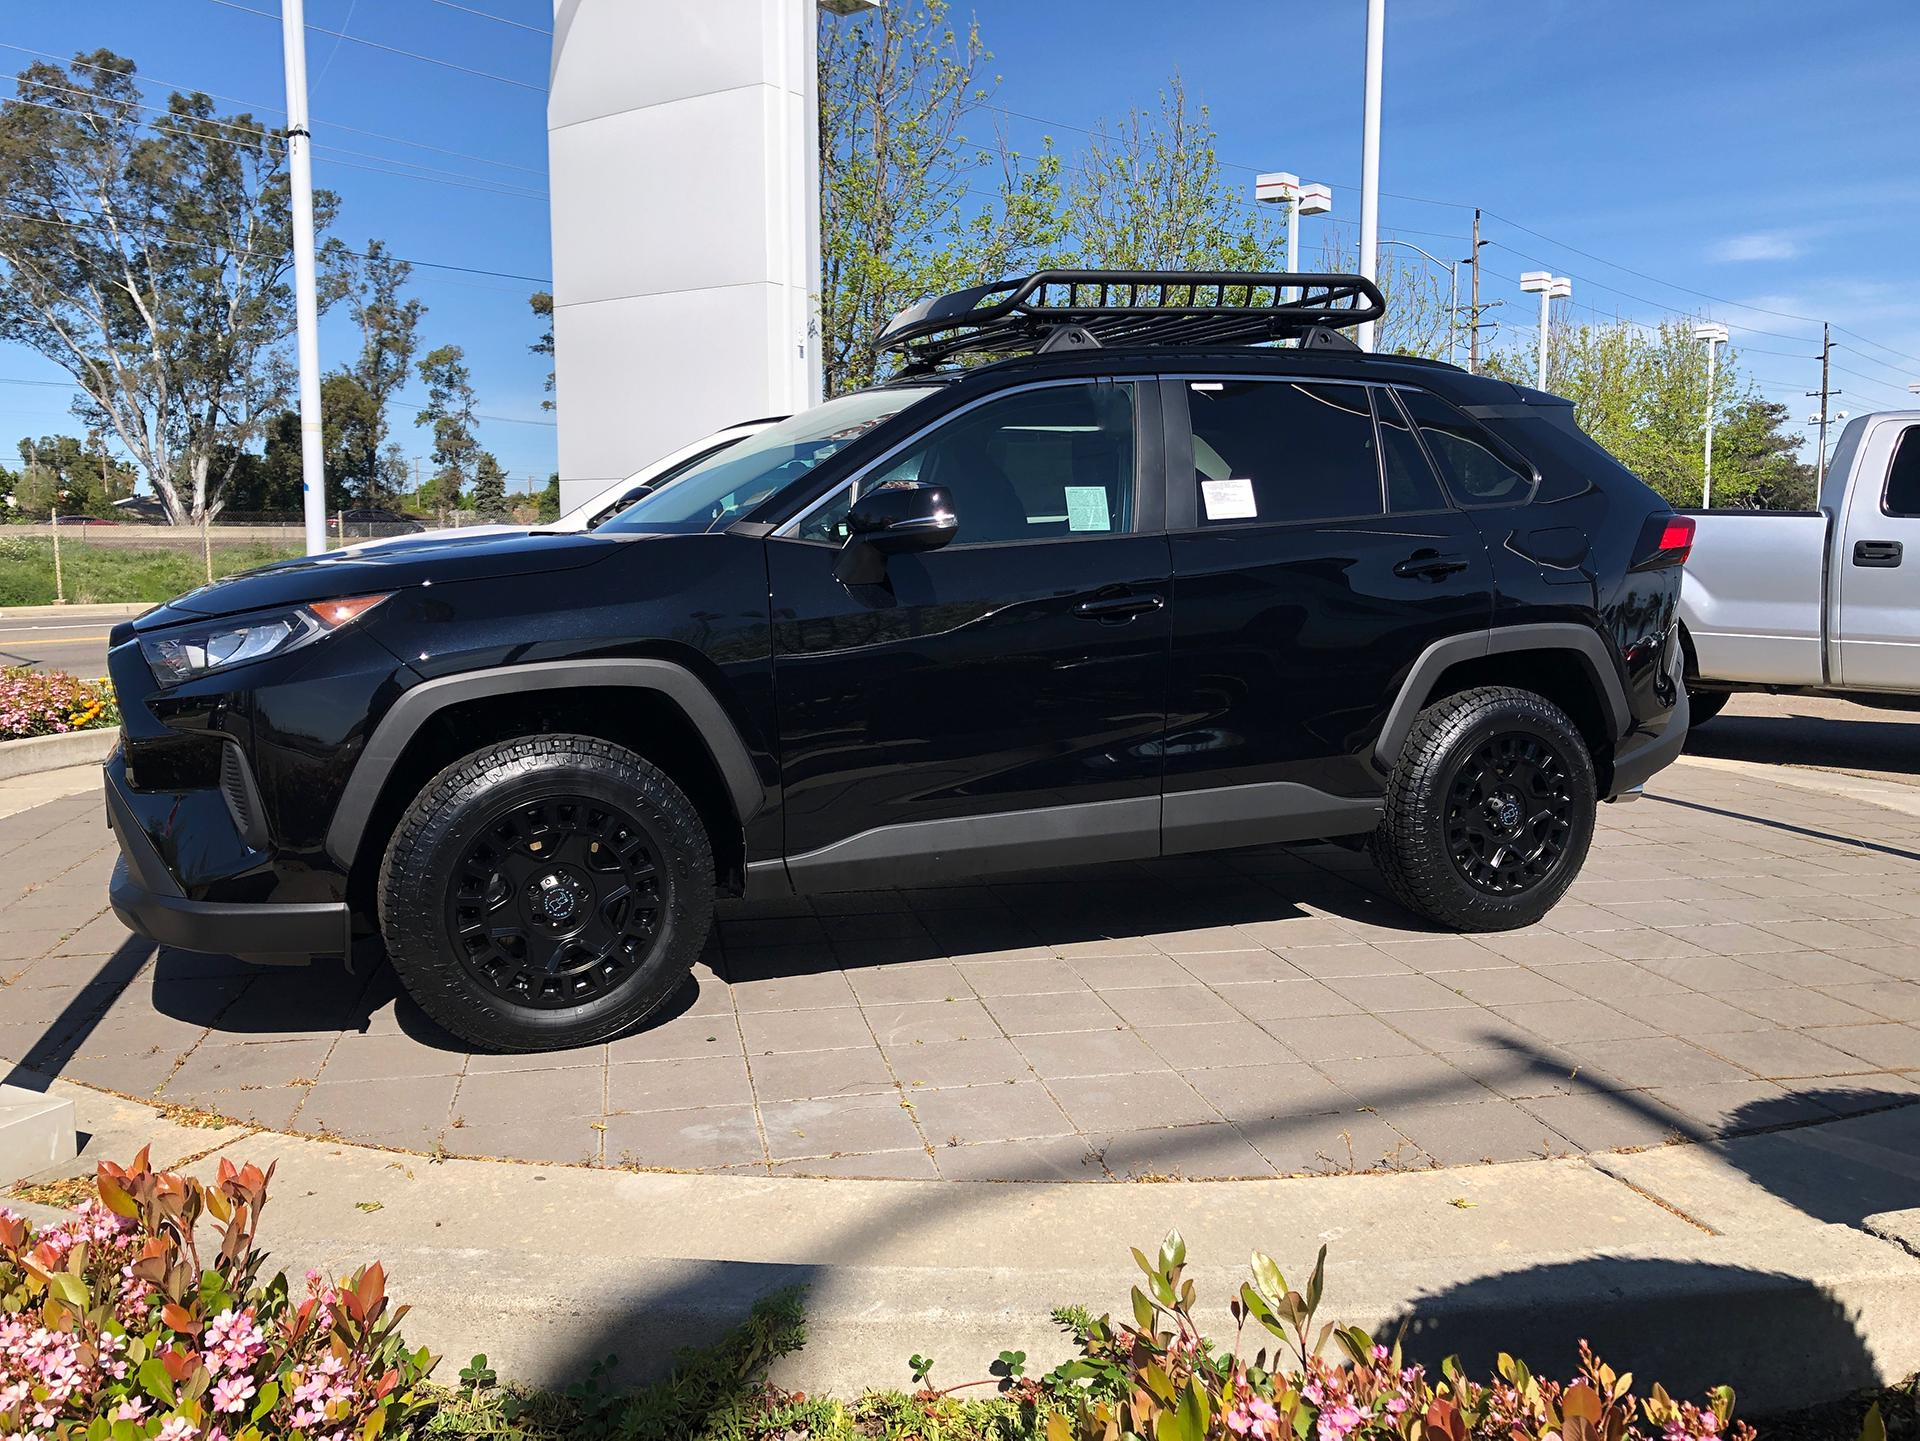Toyota RAV-4: (104, 348, 1696, 1058)
